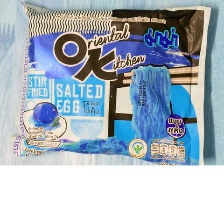snack: (5, 0, 217, 165)
